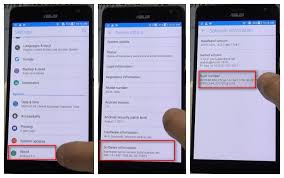asus: (193, 3, 280, 174), (97, 1, 184, 172), (6, 3, 93, 174)
